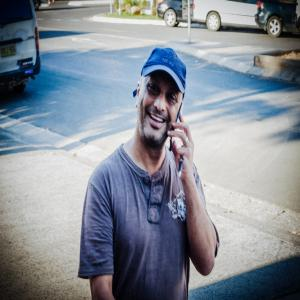Vehicle-registration-plate: (2, 45, 17, 59)
